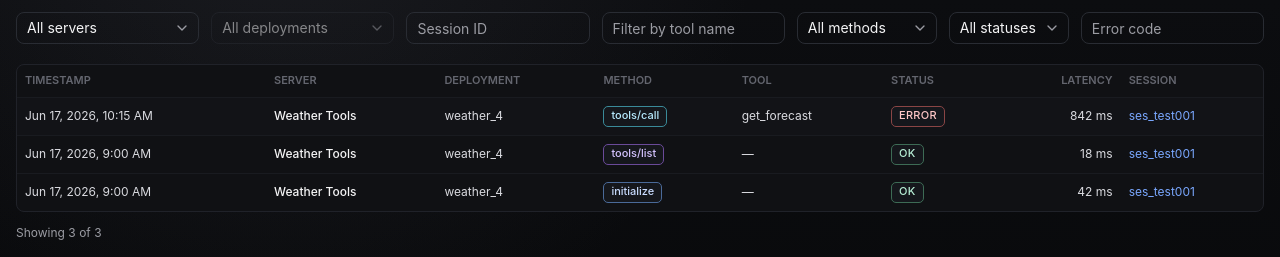
Scenario: LogFilters › keeps the server filter after selection
What coordinates should you click on to do the following:
click the dropdown labelled "server"
I would click on:
 (108, 28)
Its box is [16,12,199,44].
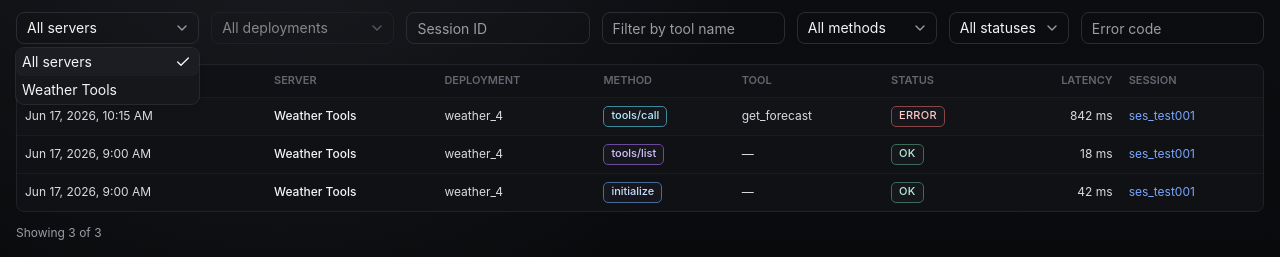
What coordinates should you click on to do the following:
click the option "Weather Tools"
I would click on:
 (70, 90)
Its box is [22,81,117,98].
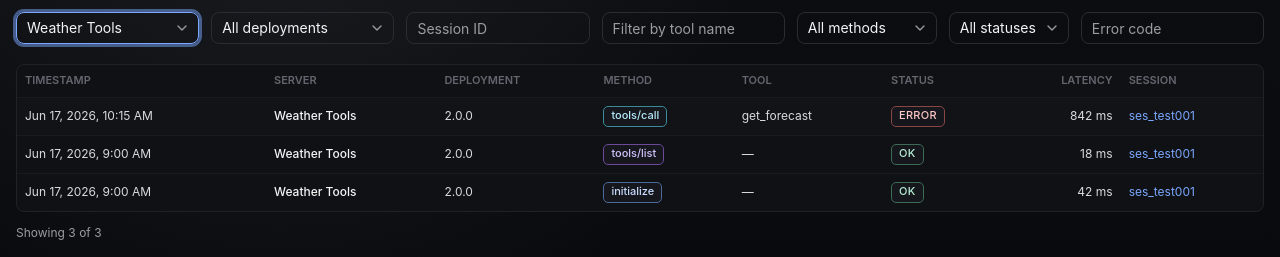
expect the dropdown named "Server" shows "Weather Tools": met, box [16,12,199,44]
